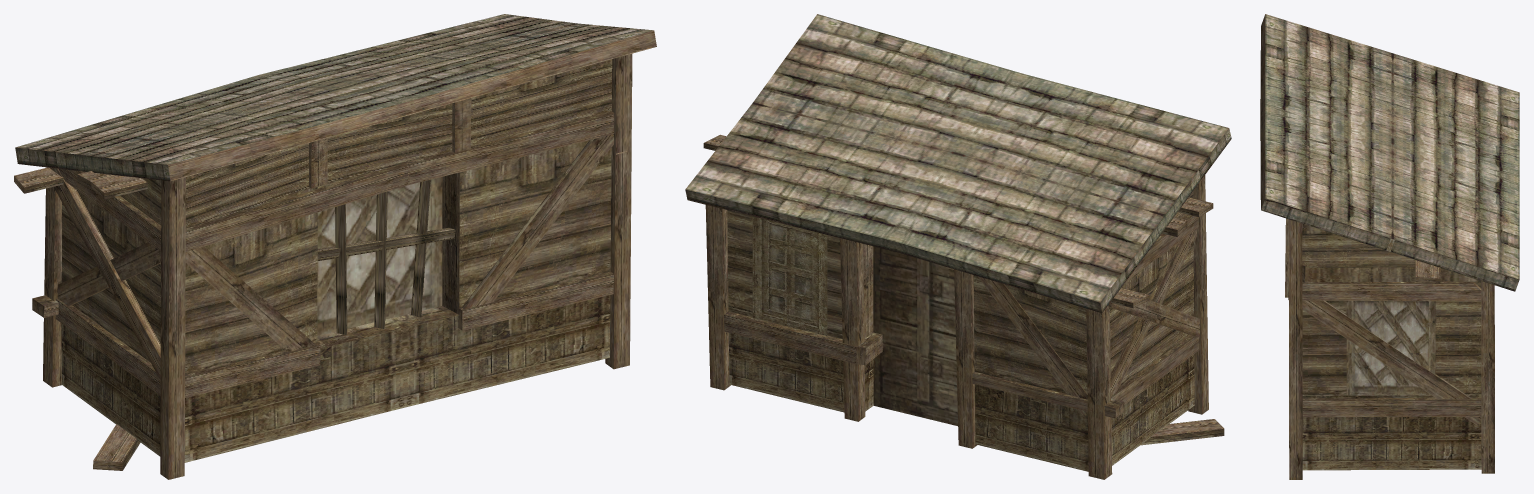
The model's file is S_Build_West100.FBX.
3 views of the same model, side by side, from view 1: azimuth 30°, elevation 25°; view 2: azimuth 150°, elevation 25°; view 3: azimuth 270°, elevation 25° (orthographic). The views are drawn at different scales.
Visible parts, largest first — view 1: S_Build_West100; view 2: S_Build_West100; view 3: S_Build_West100.
Boxes of the visible parts, x1,y1,x2,y2 form: S_Build_West100: [14, 14, 656, 479]; S_Build_West100: [685, 14, 1231, 479]; S_Build_West100: [1260, 14, 1519, 479].
Size of the model in its own units: 890 by 436 by 530.
